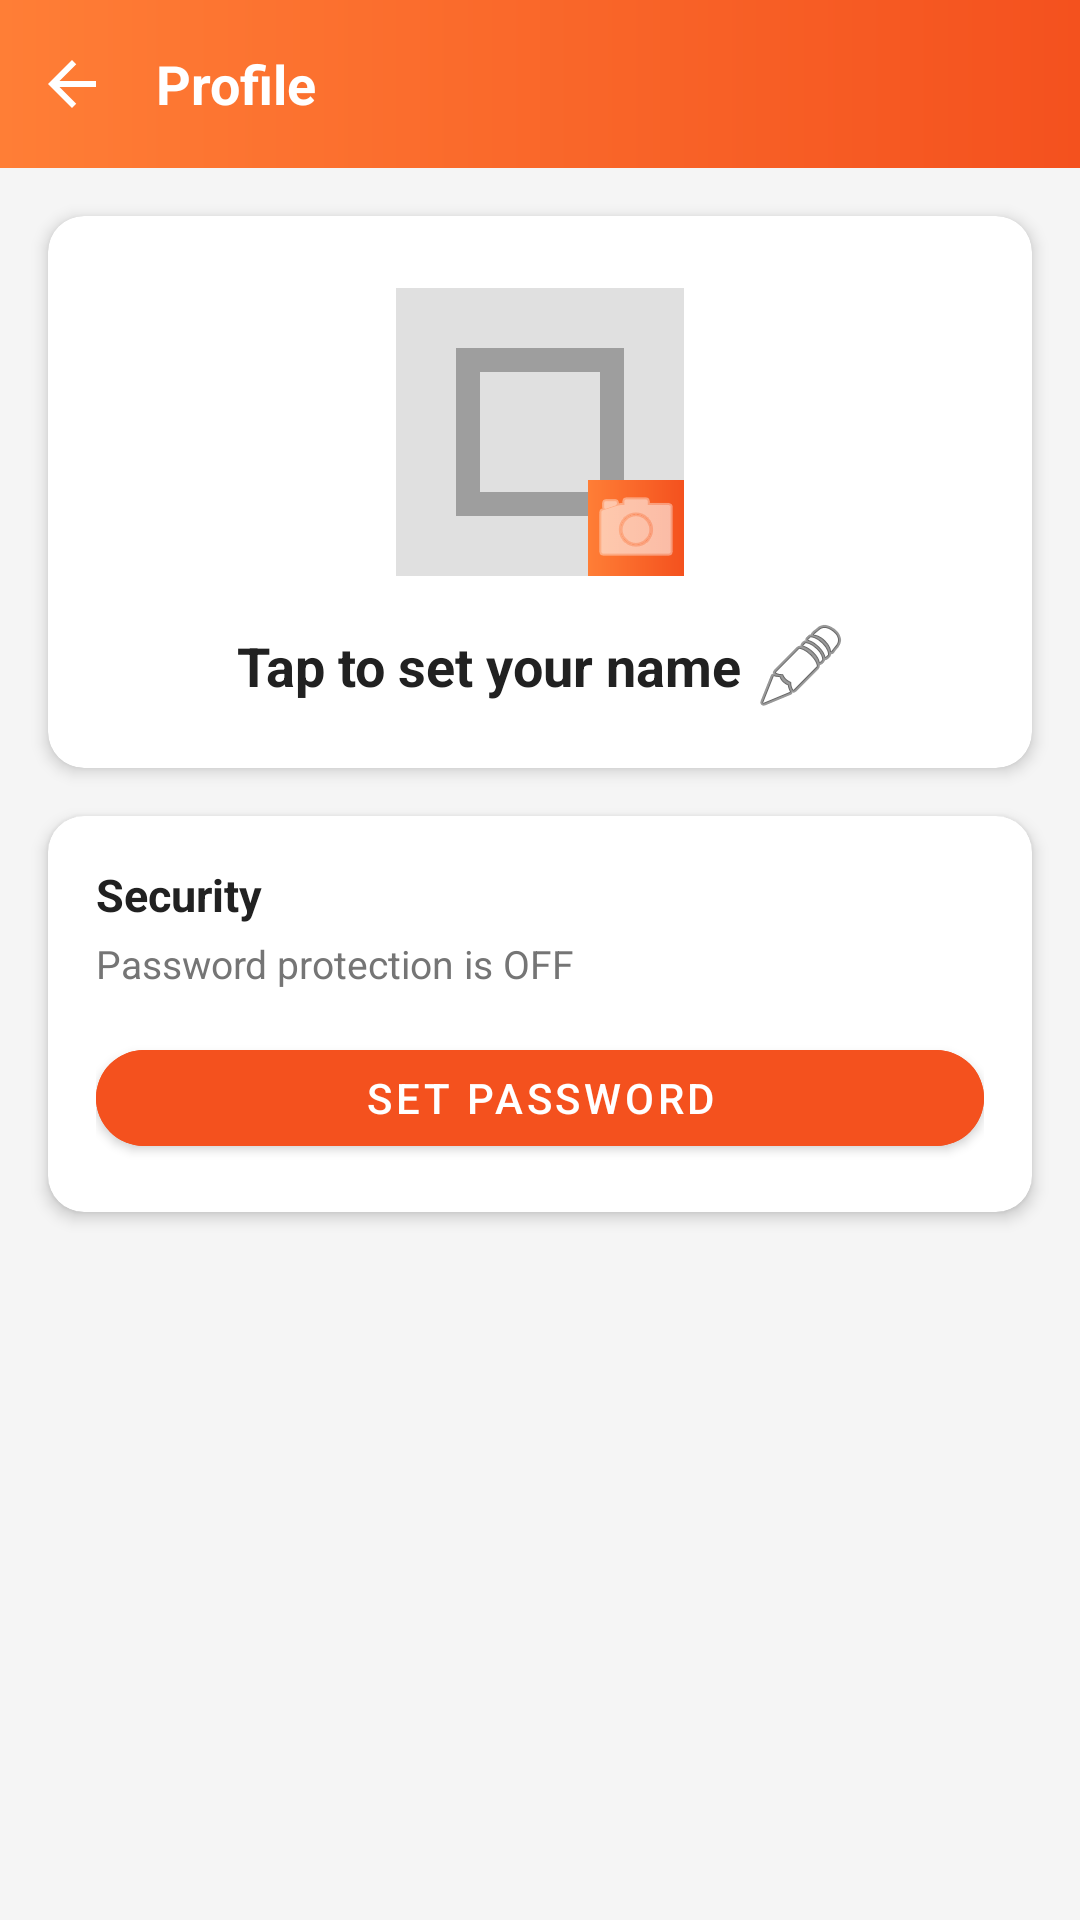

Point at icon controls on the screen. Image size 1080 × 1920, points as point (x, y).
back: point (72, 84)
camera: point (636, 528)
edit: point (800, 665)
